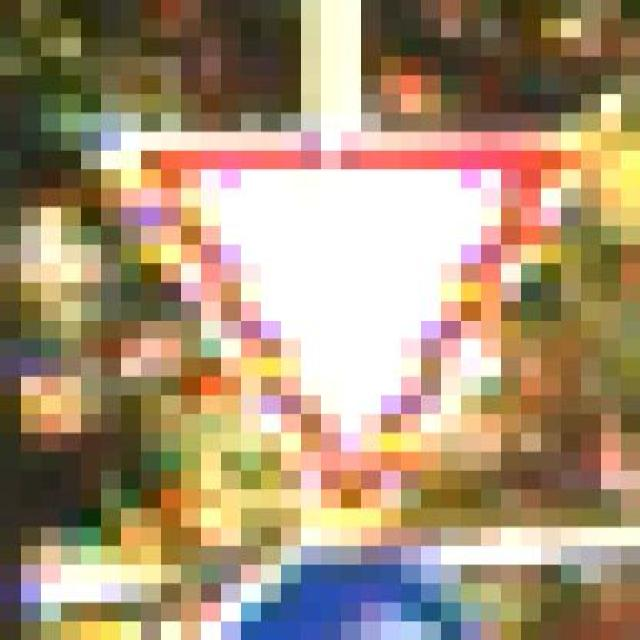Give Way: (60, 113, 600, 527)
